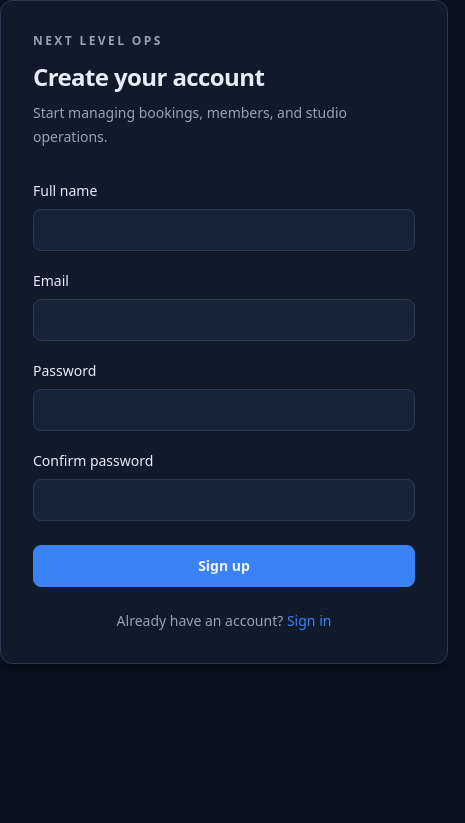
SignUpForm › renders validation errors returned by the action
Click the button "Sign up": {"x": 224, "y": 566} [33,545,415,587]
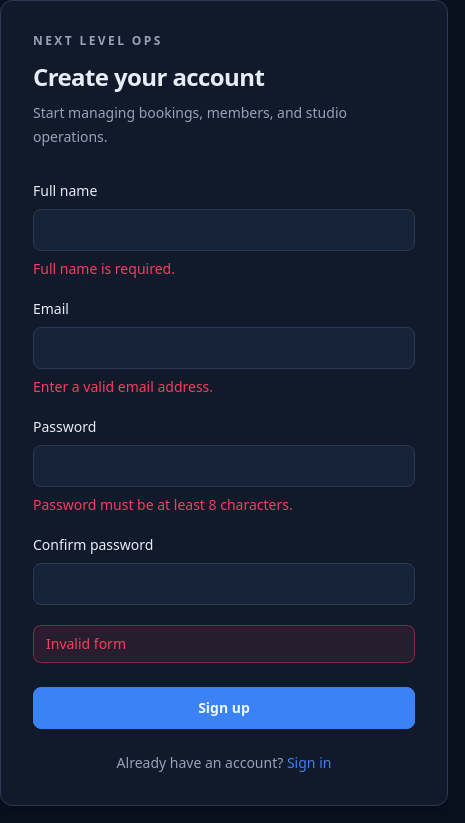
Now the text "Full name is required." is shown, box [33,259,175,278]
Now the text "Enter a valid email address." is shown, box [33,377,213,396]
Now the text "Password must be at least 8 characters." is shown, box [33,495,293,514]
